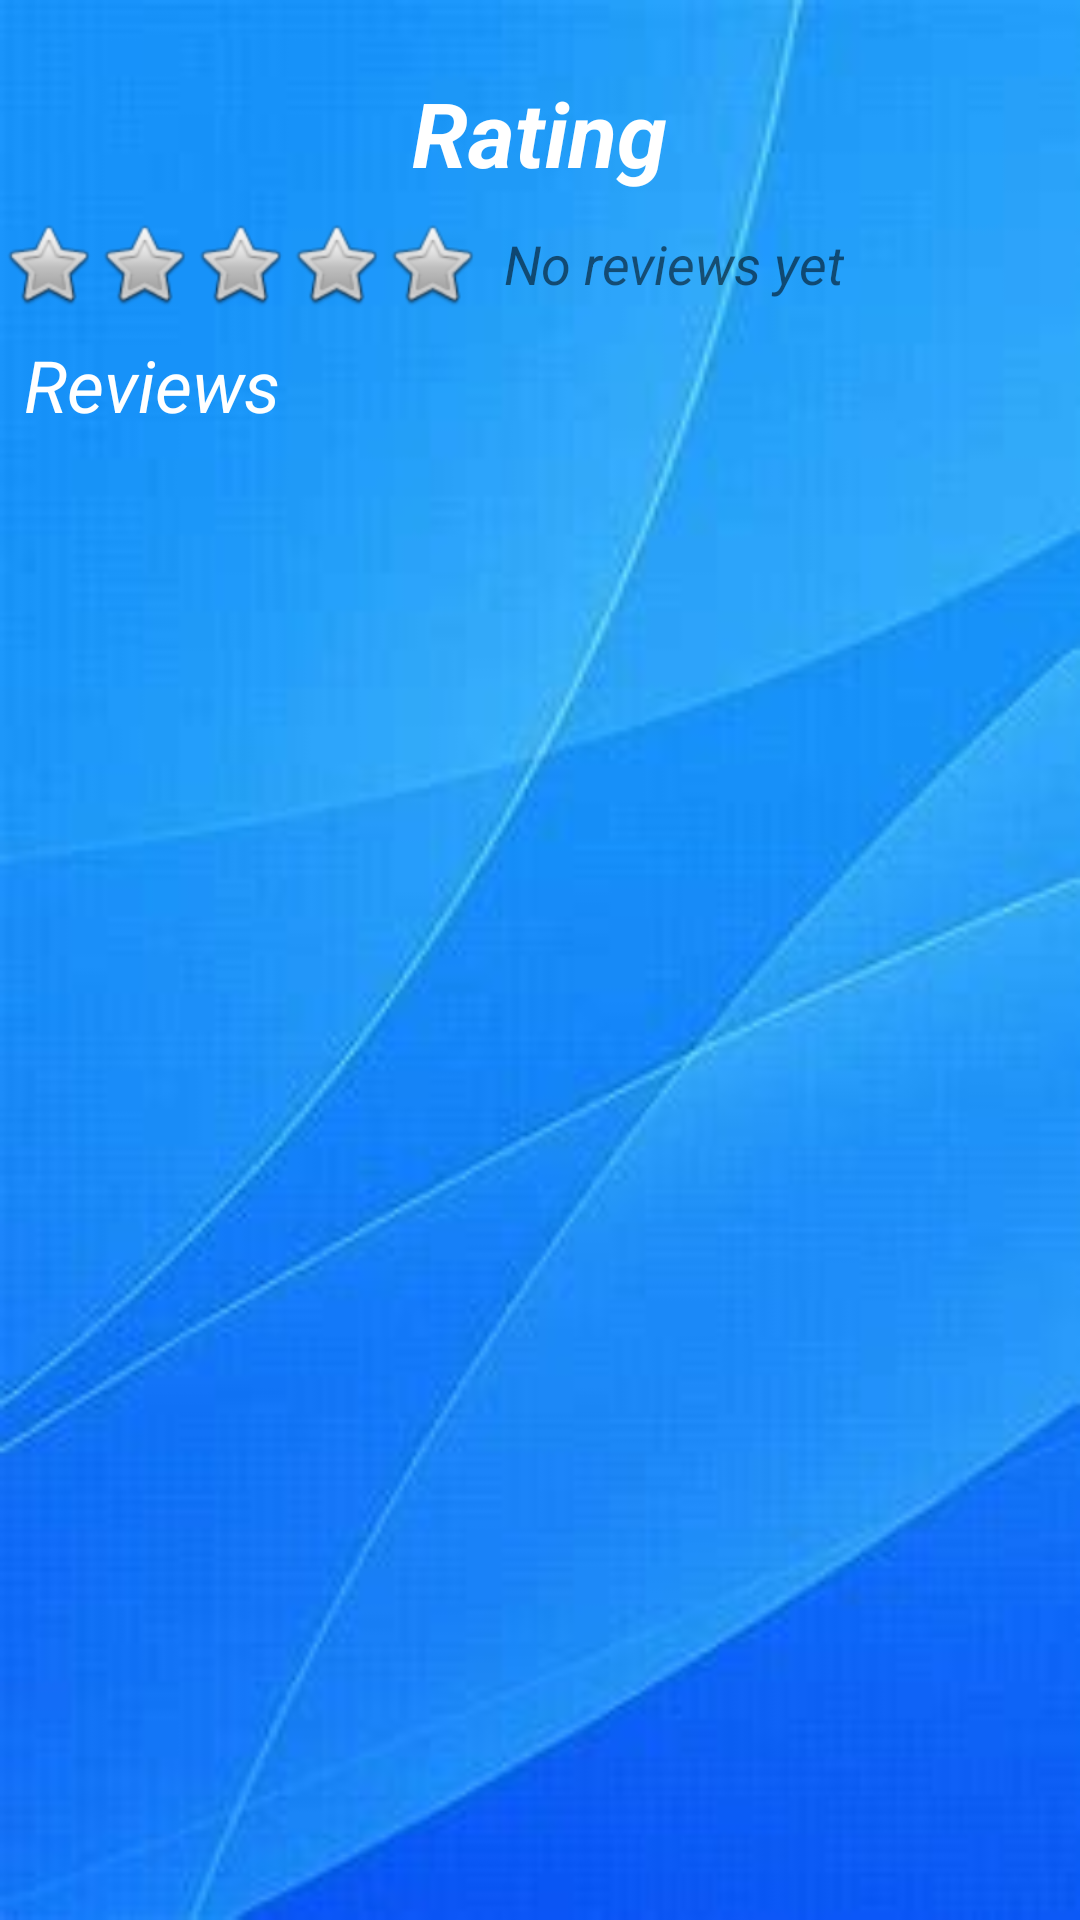

Icons on this 1080px x 1920px Android screen, each with the point to tap as [x,y]:
star off: [49,265], [145,265], [241,265], [337,265], [433,265]
